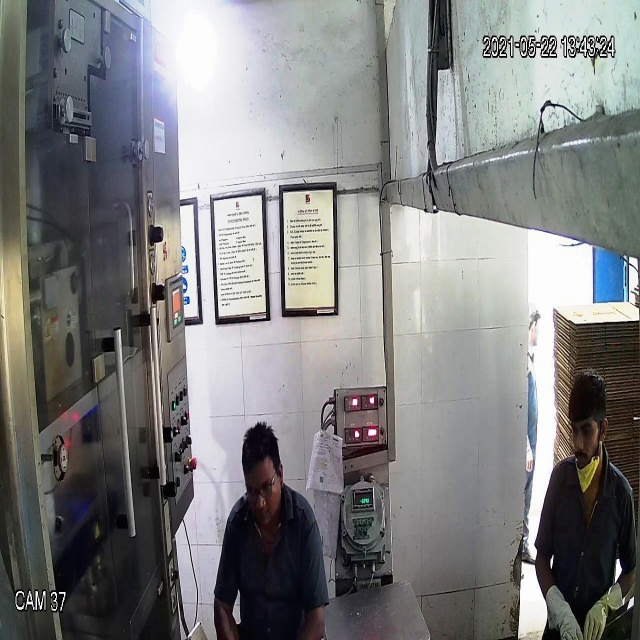Gafas: (241, 473, 280, 508)
Sin_gafas: (568, 416, 602, 444)
